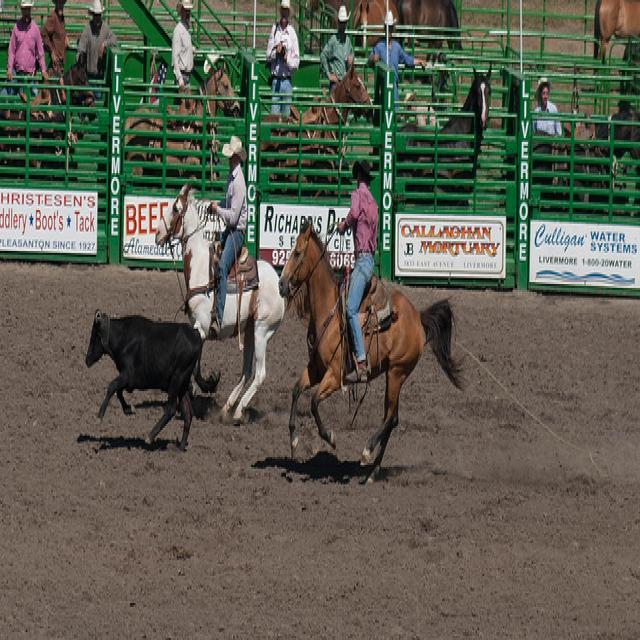cow: (84, 310, 219, 454)
